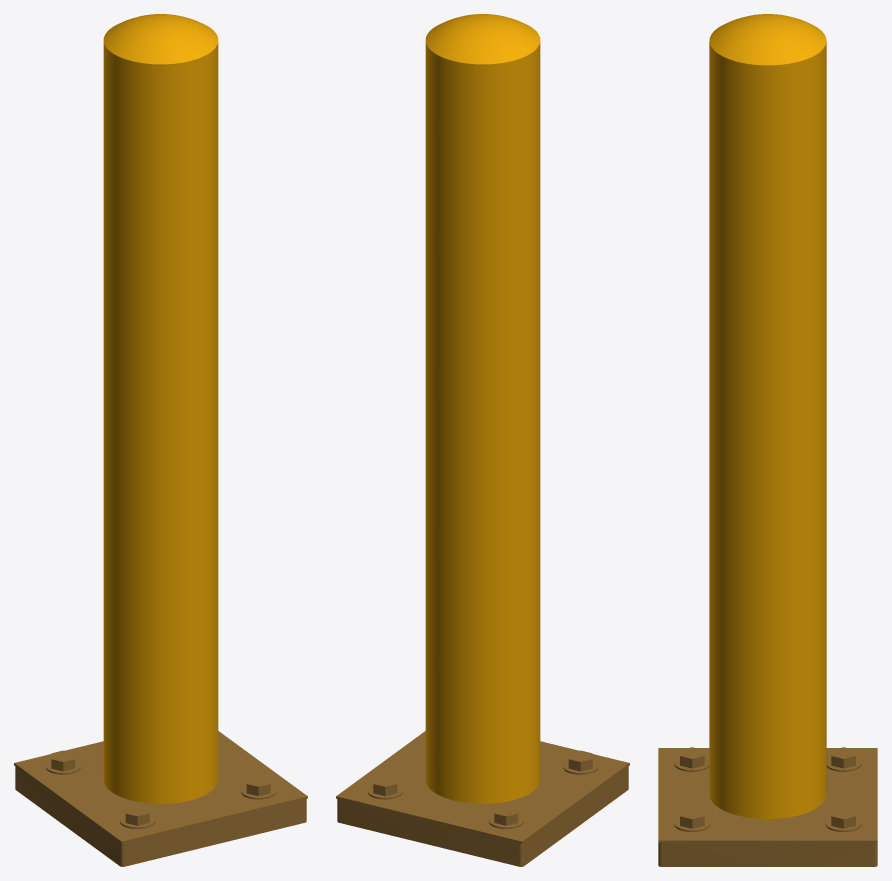
3 renders of one model, left to right at view 1: azimuth 30°, elevation 25°; view 2: azimuth 150°, elevation 25°; view 3: azimuth 270°, elevation 25°, orthographic.
Visible parts, largest first — view 1: bollard; view 2: bollard; view 3: bollard.
Part boxes in pixels (x1,y1,x2,y2): bollard: (14, 14, 307, 866); bollard: (336, 14, 629, 866); bollard: (658, 14, 877, 866).
Size of the model in its own units: 0.249 by 1 by 0.249.
